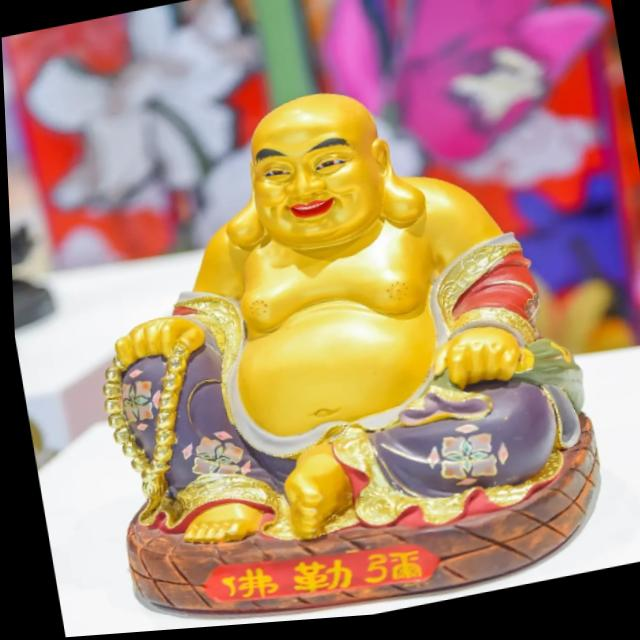Smiling Buddha: (150, 68, 497, 517)
